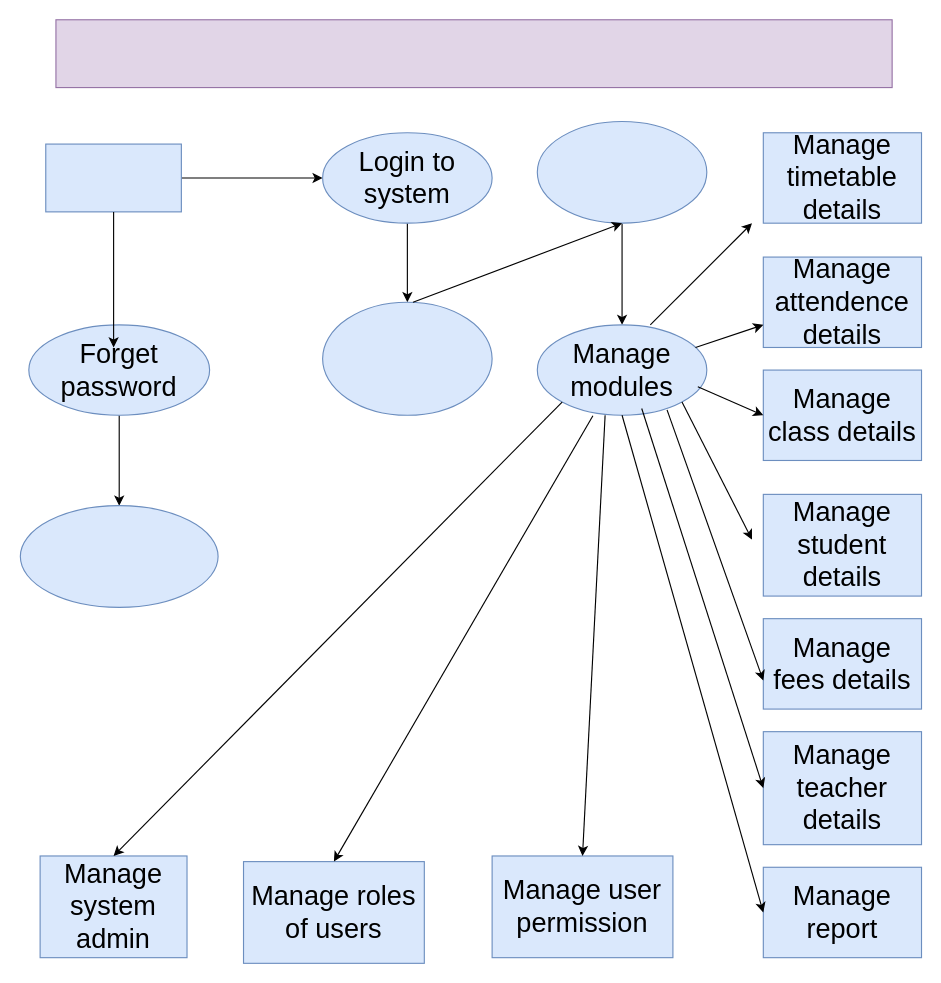
Image size: 941x983. Some labels were removed from this diagram. Each missing label, with the centre of its shape:
"Admin" belongs at point 113,177.
"Check credentials" belongs at point 406,358.
"Check roles of access" belongs at point 621,171.
"Send email to user" belongs at point 118,556.
"STUDENT INFORMATION SYSTEM" belongs at point 473,53.
